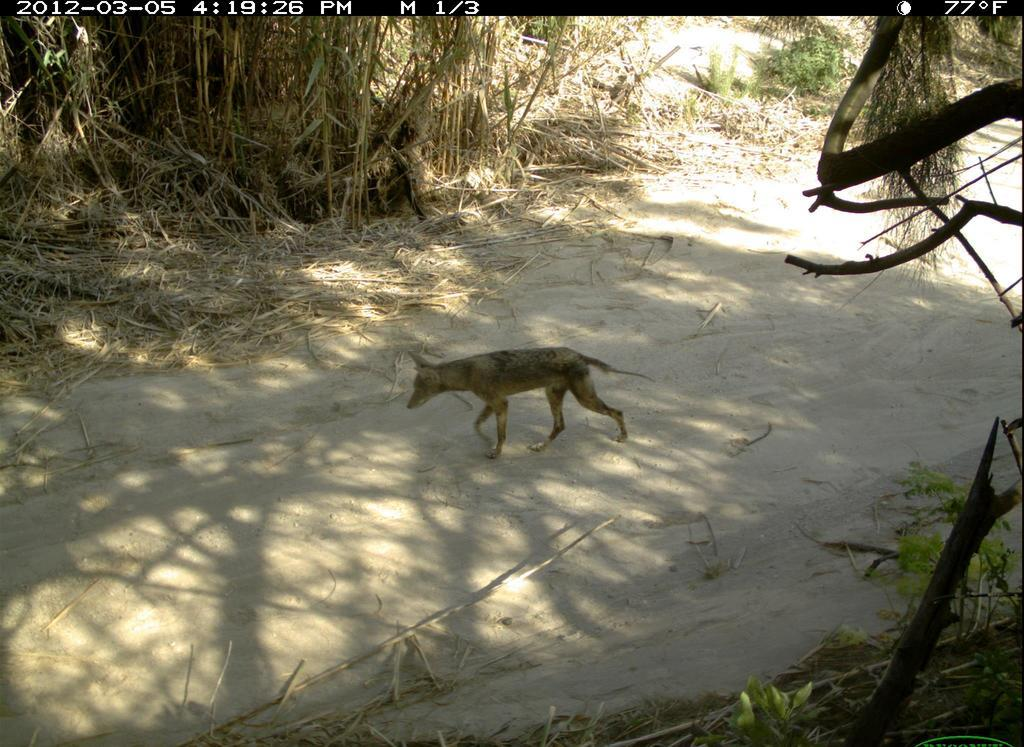coyote: (402, 341, 662, 464)
